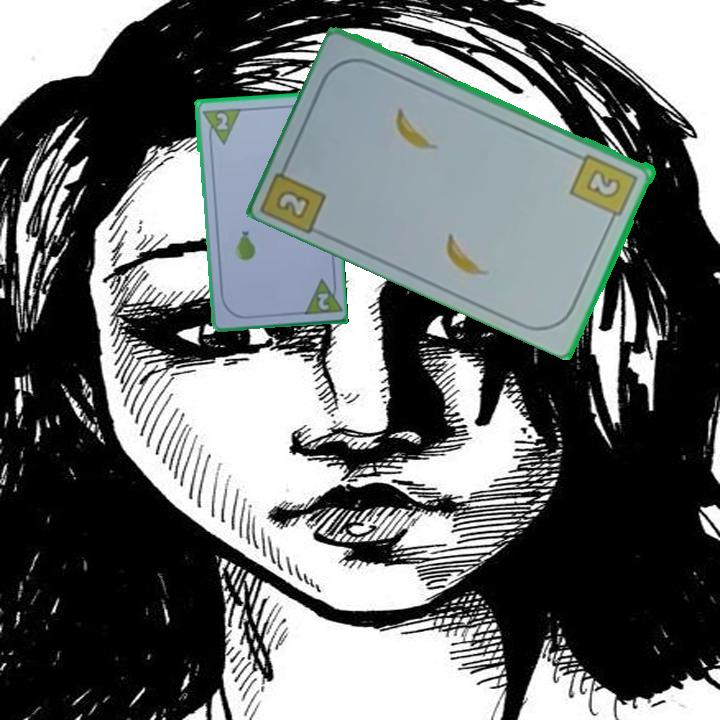2b: (567, 150, 641, 227), (261, 154, 330, 235)
2p: (199, 104, 243, 147), (314, 289, 332, 313)
